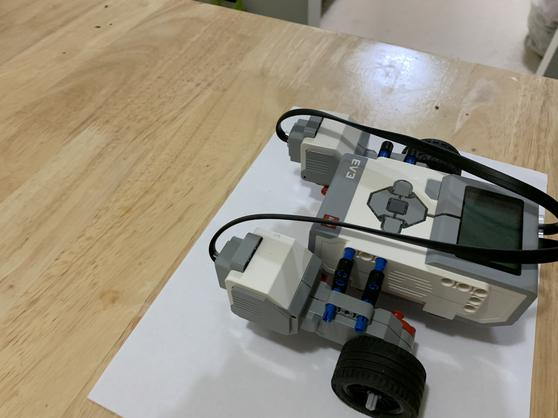robot: (204, 97, 558, 418)
